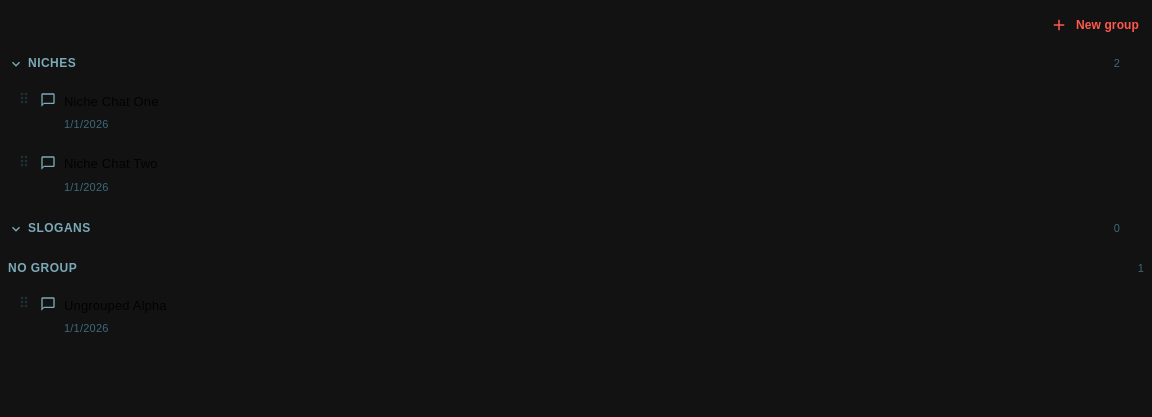
it: RecentChats panel › shows the duplicate-name helper text when create rejects with chatgroup_duplicate_name
The image size is (1152, 417).
Click the button "New group". click: (1095, 25)
box: [1047,4,1144,46]
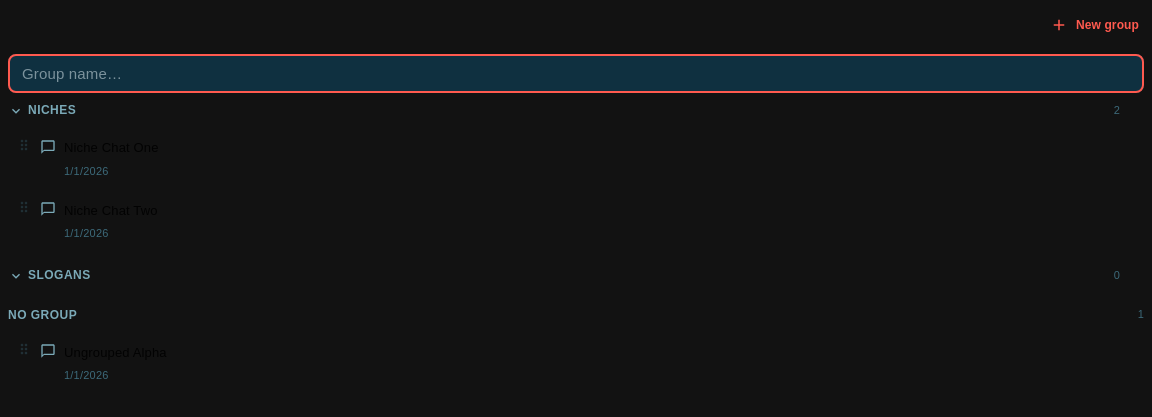
Type "Niches" into the field named "New group". click: (576, 73)
box: [8,54,1144,93]
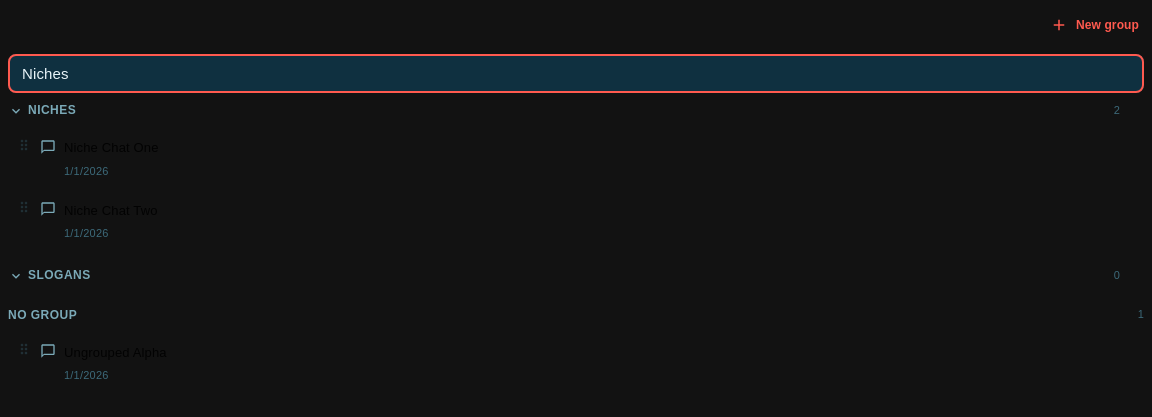
Press Enter in the field named "New group", box [8,54,1144,93]
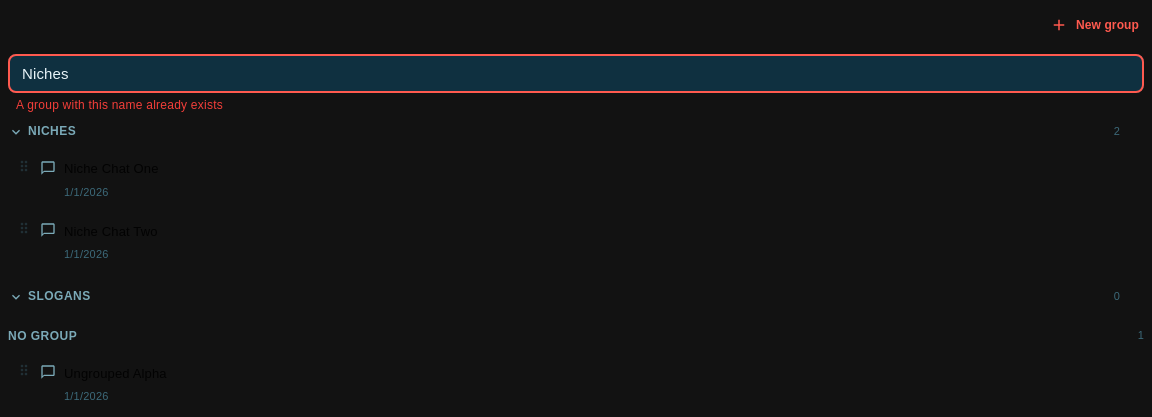
Check: the text "A group with this name already exists" is shown, box [16,98,223,112]
